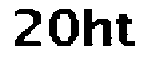0: (43, 7, 80, 49)
2: (9, 6, 45, 52)
h: (82, 6, 115, 55)
t: (115, 9, 141, 50)
